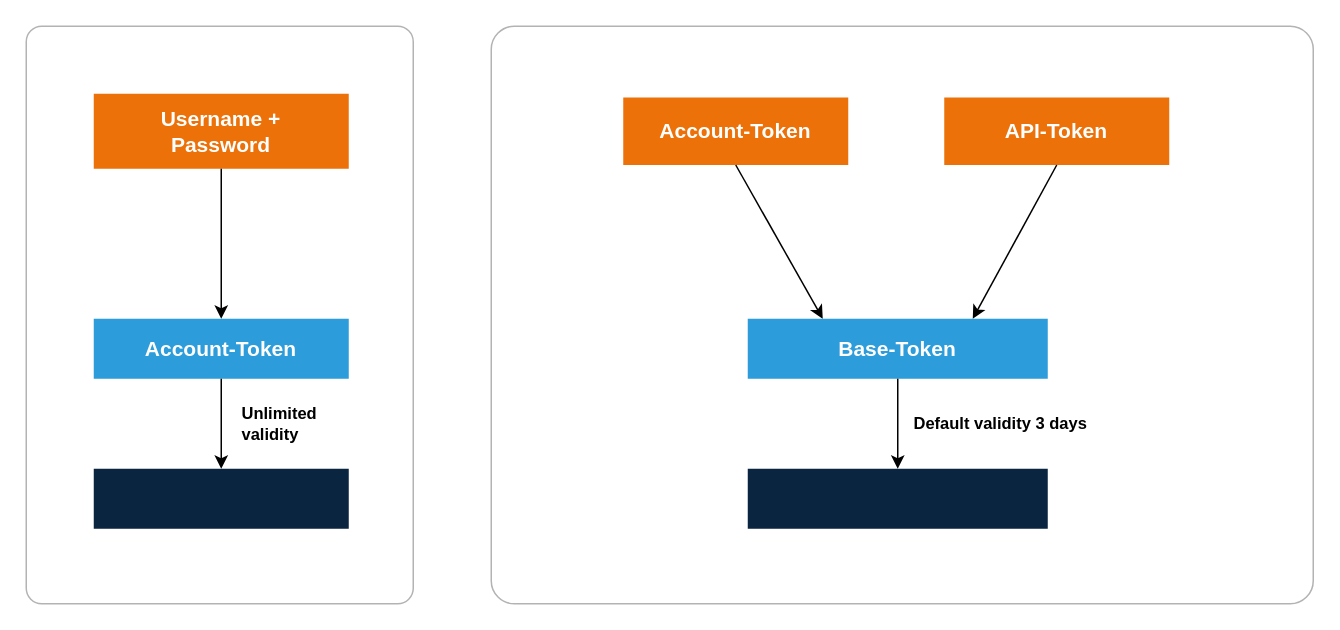
Some shapes in this 1340 by 630 pixel diagram are drawn without their labels. Each missing label, with the centre of its shape:
Account Operations: the point at 220,498
Base Operations: the point at 897,498
